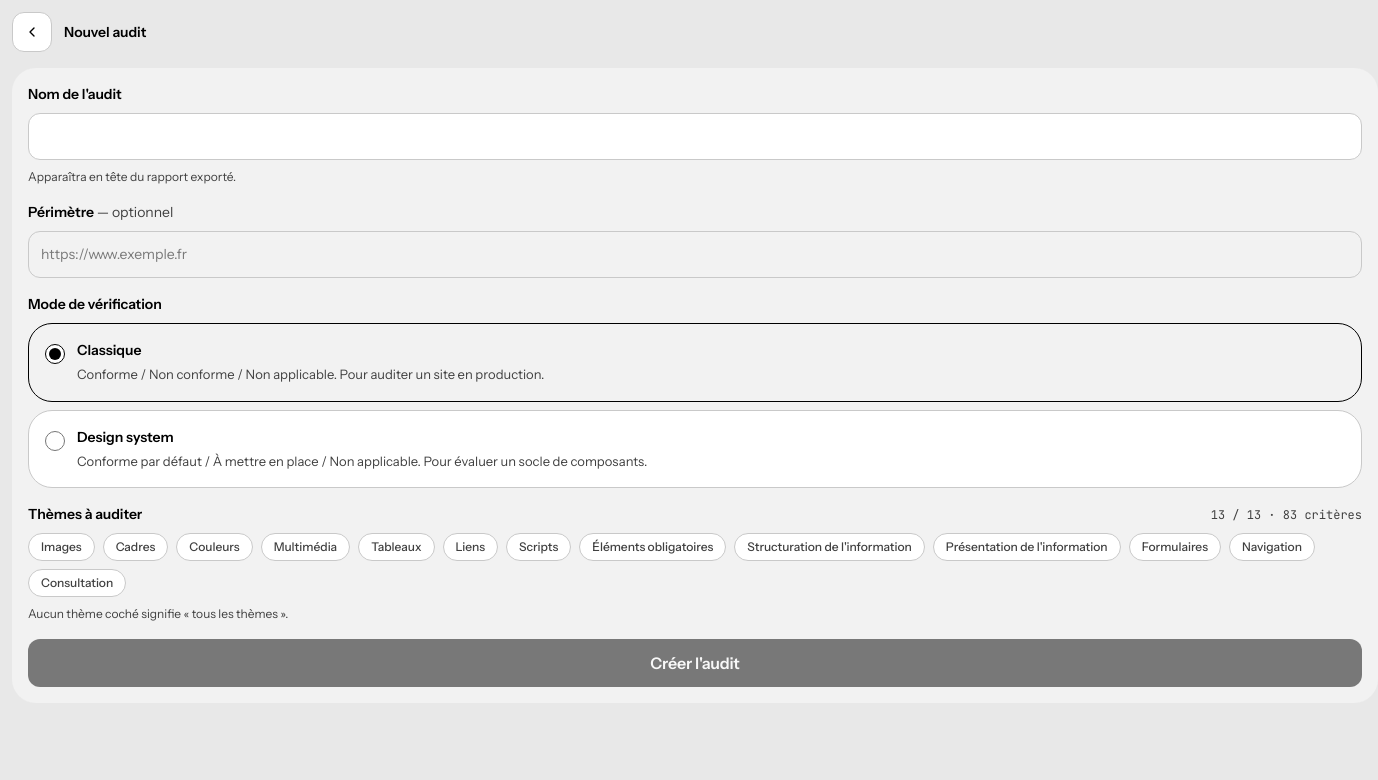
Test case: NewAuditForm › affiche l'erreur à la sortie du champ (blur), pas à la soumission
Click the field labelled "Nom de l'audit" at coordinates (695, 136), box top-left (28, 113), bottom-right (1362, 160)
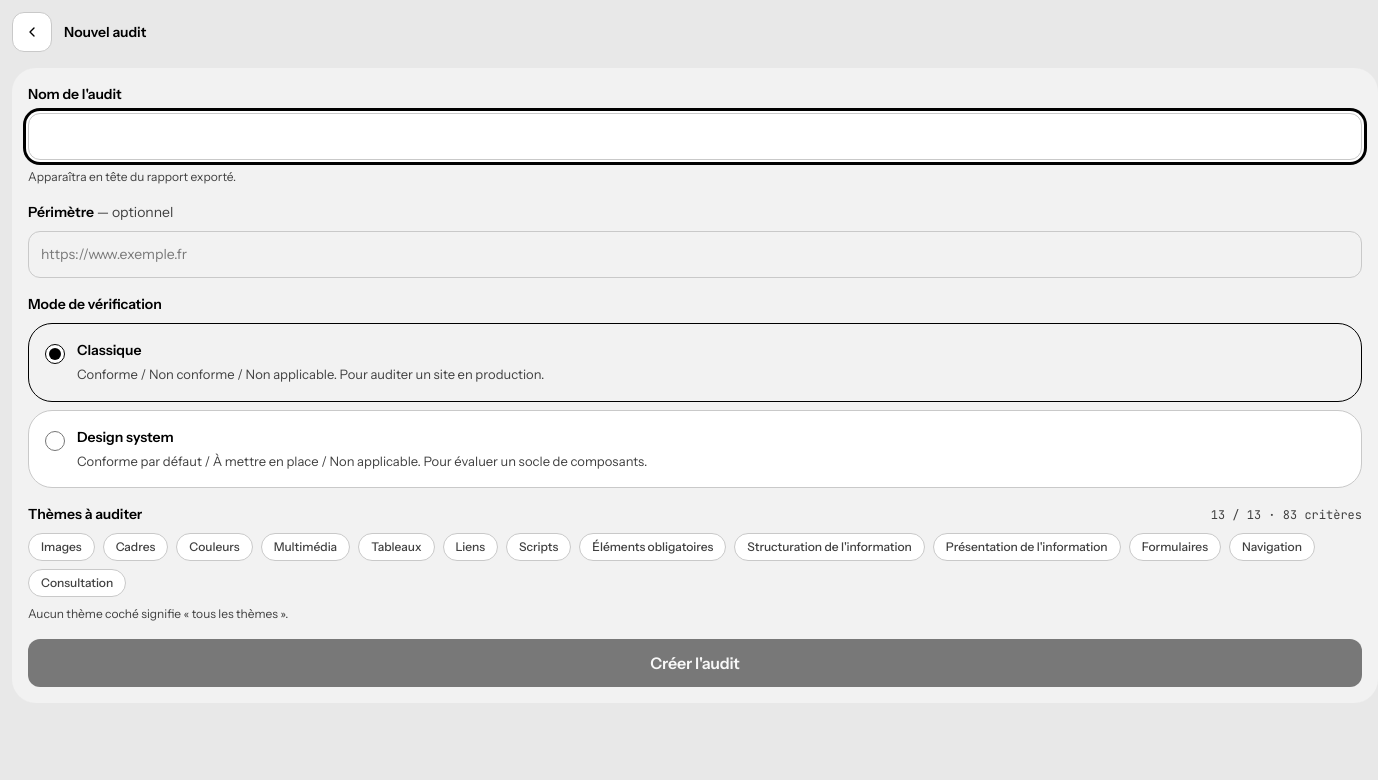
Press Escape
Press Tab
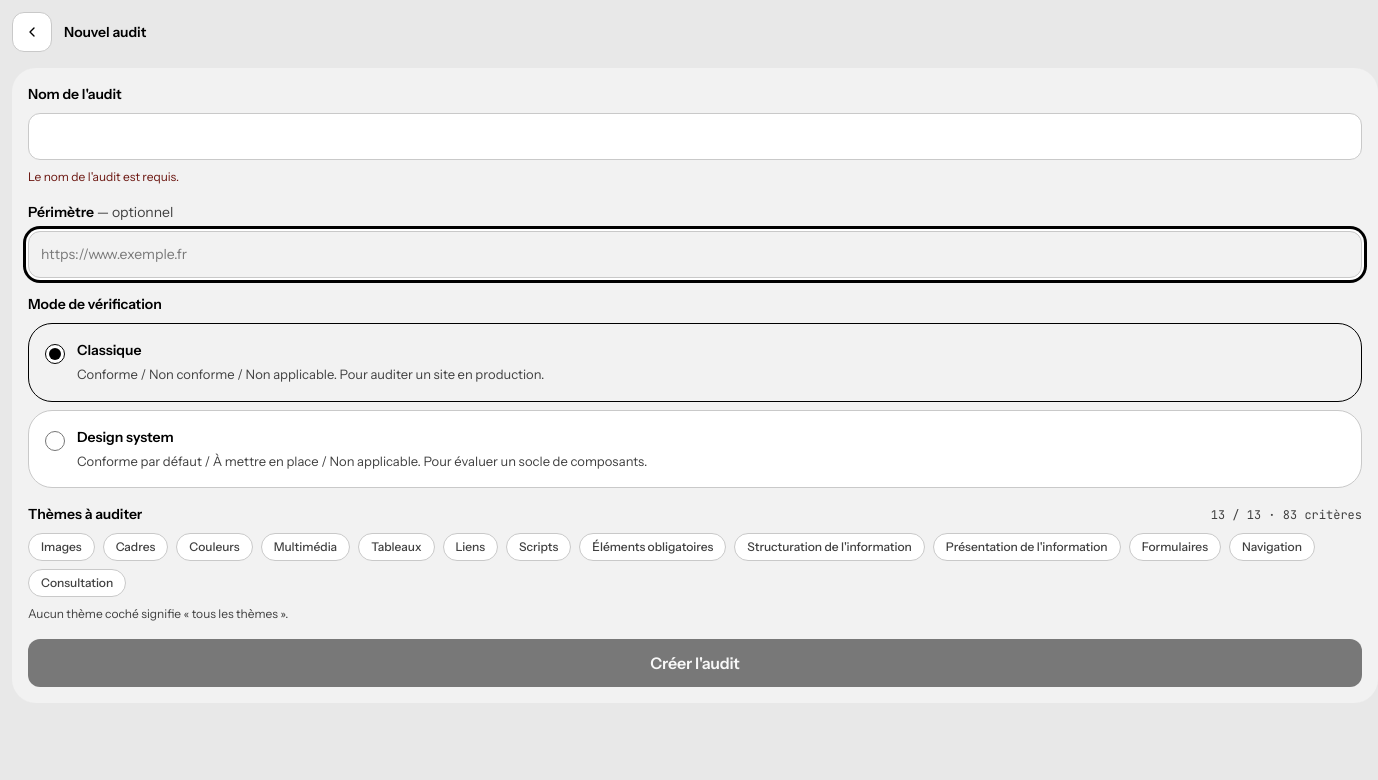
Now the text "Le nom de l'audit est requis." is shown, box top-left (28, 169), bottom-right (179, 184)
